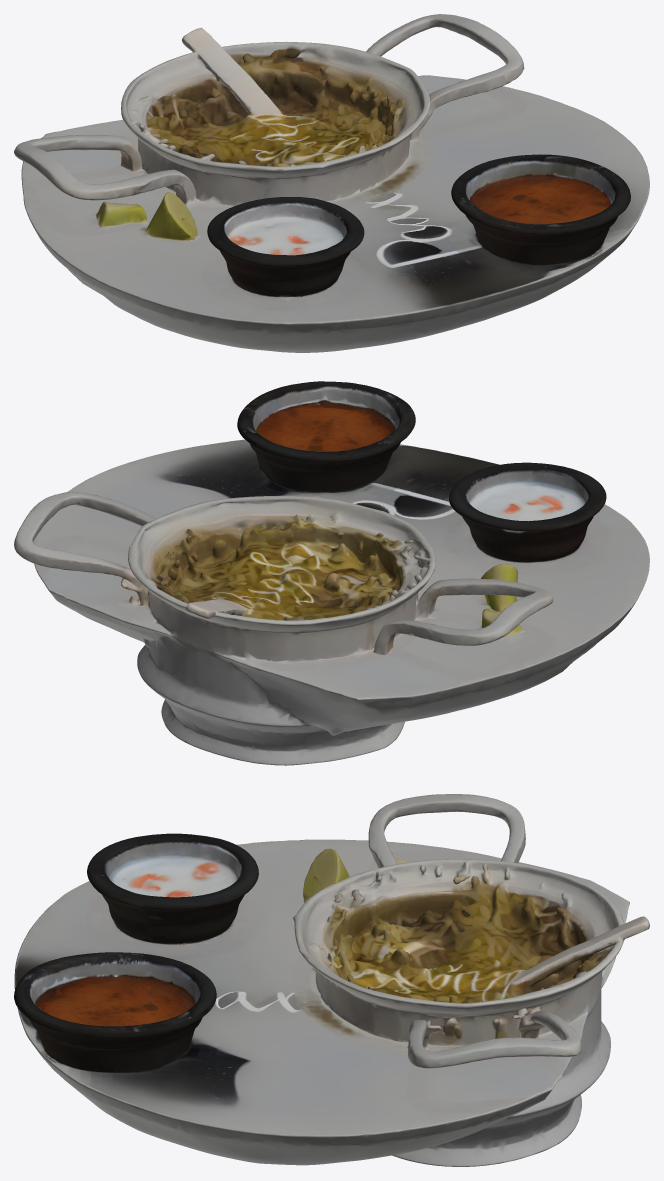
3 renders of one model, top to bottom at view 1: azimuth 30°, elevation 25°; view 2: azimuth 150°, elevation 25°; view 3: azimuth 270°, elevation 25°, orthographic. The views are drawn at different scales.
Visible parts, largest first — view 1: tripo_node_7d8ad3b7-7254-474f-aefc-1ab51638e10f; view 2: tripo_node_7d8ad3b7-7254-474f-aefc-1ab51638e10f; view 3: tripo_node_7d8ad3b7-7254-474f-aefc-1ab51638e10f.
Part boxes in pixels (left/top/right/bottom): tripo_node_7d8ad3b7-7254-474f-aefc-1ab51638e10f: left=14, top=14, right=649, bottom=352; tripo_node_7d8ad3b7-7254-474f-aefc-1ab51638e10f: left=14, top=381, right=649, bottom=765; tripo_node_7d8ad3b7-7254-474f-aefc-1ab51638e10f: left=14, top=794, right=649, bottom=1166.
Size of the model in its own units: 0.9998 by 0.302 by 0.9063.
Materials: 1 (1 with a texture image).
